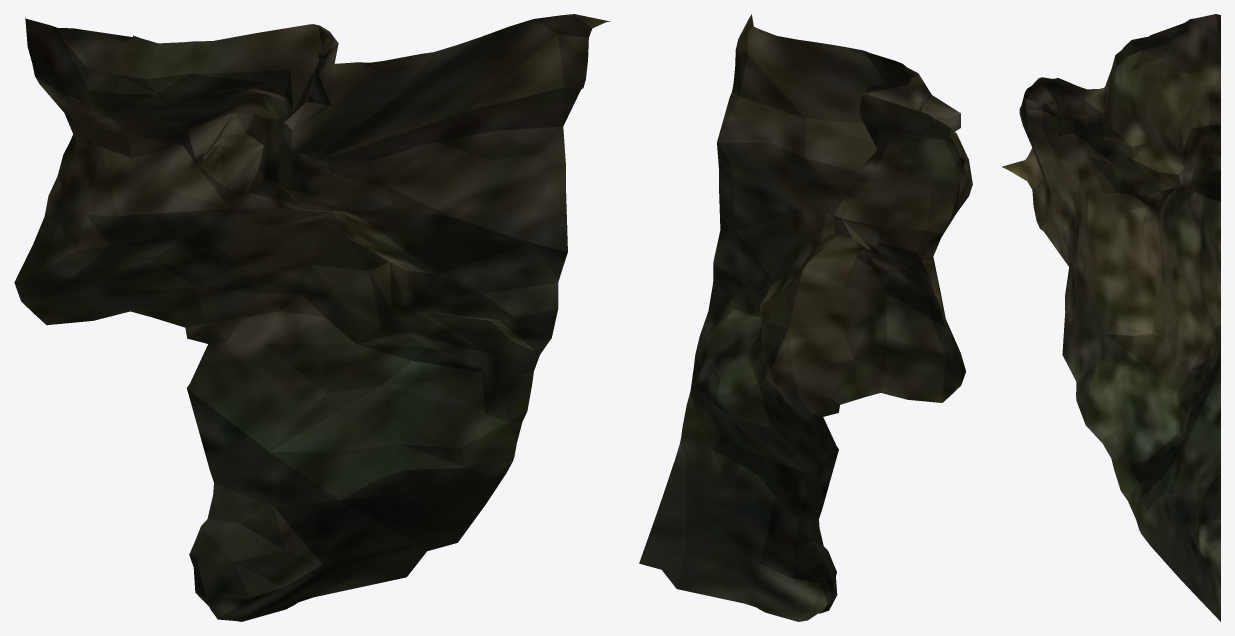
3 views of the same model, side by side, from view 1: azimuth 30°, elevation 25°; view 2: azimuth 150°, elevation 25°; view 3: azimuth 270°, elevation 25° (orthographic). The views are drawn at different scales.
Bounding box in the file's own units: 0.506 × 0.7192 × 0.302.
Materials: 2 (2 with a texture image).
